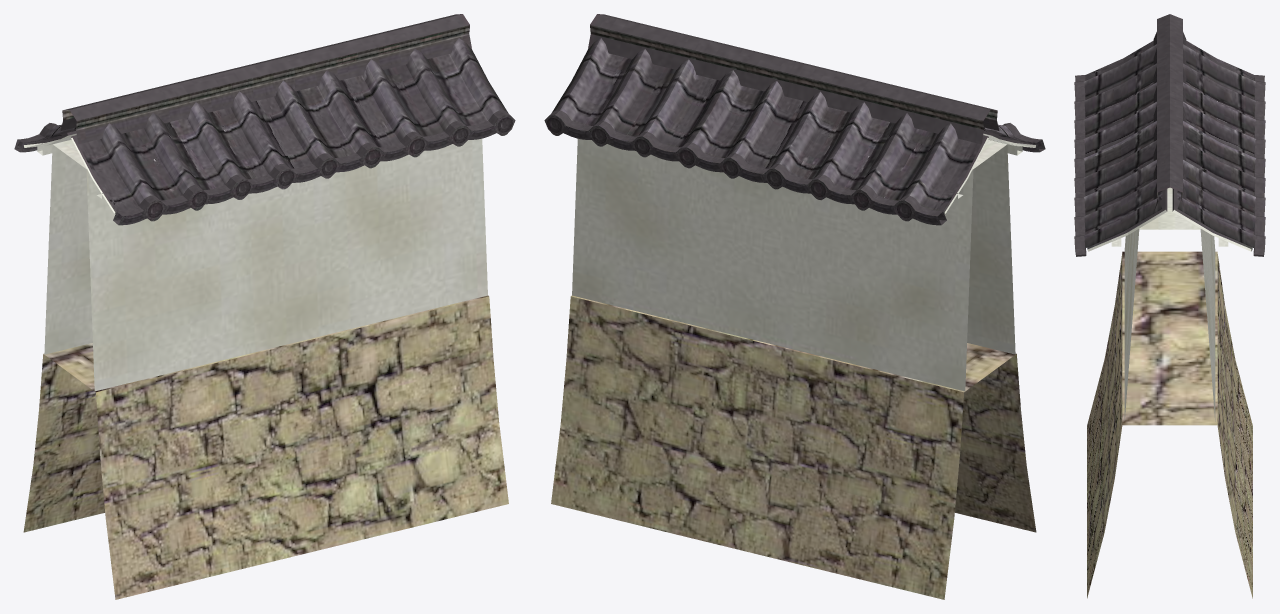
File: pp_hei_center.glb
The picture shows the model from 3 angles, left to right: view 1: azimuth 30°, elevation 25°; view 2: azimuth 150°, elevation 25°; view 3: azimuth 270°, elevation 25°; orthographic projection. The views are drawn at different scales.
Visible parts, largest first — view 1: pp_hei_center-0; view 2: pp_hei_center-0; view 3: pp_hei_center-0.
Boxes of the visible parts, x1=… form: pp_hei_center-0: x1=14, y1=14, x2=515, y2=599; pp_hei_center-0: x1=544, y1=14, x2=1045, y2=599; pp_hei_center-0: x1=1074, y1=14, x2=1265, y2=598.
Bounding box in the file's own units: 2 × 2.2 × 0.9244.
Materials: 1 (1 with a texture image).
